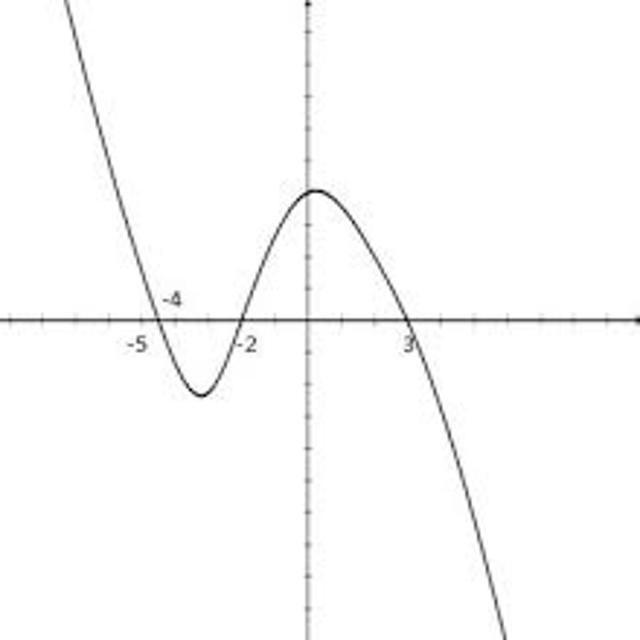axis: (0, 309, 640, 331), (301, 0, 314, 640)
line: (61, 0, 511, 639)
